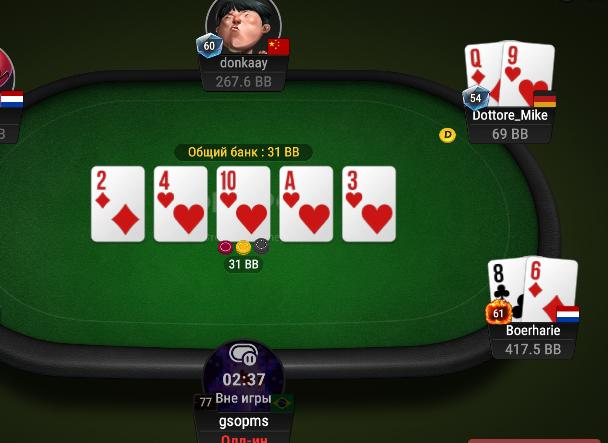10h: (218, 166, 271, 239)
2d: (91, 168, 143, 239)
3h: (342, 166, 395, 240)
4h: (155, 168, 206, 238)
6d: (524, 256, 578, 320)
8c: (487, 258, 525, 322)
9h: (502, 39, 555, 106)
Ah: (279, 166, 332, 241)
Qd: (464, 43, 502, 107)
